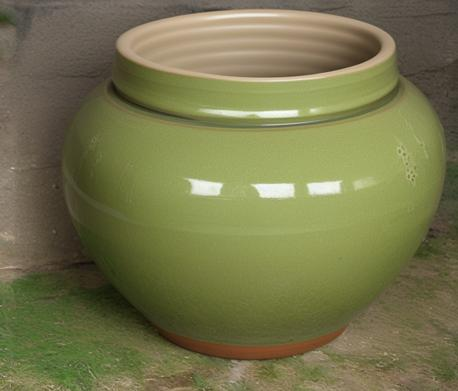pottedplant: (14, 6, 448, 362)
